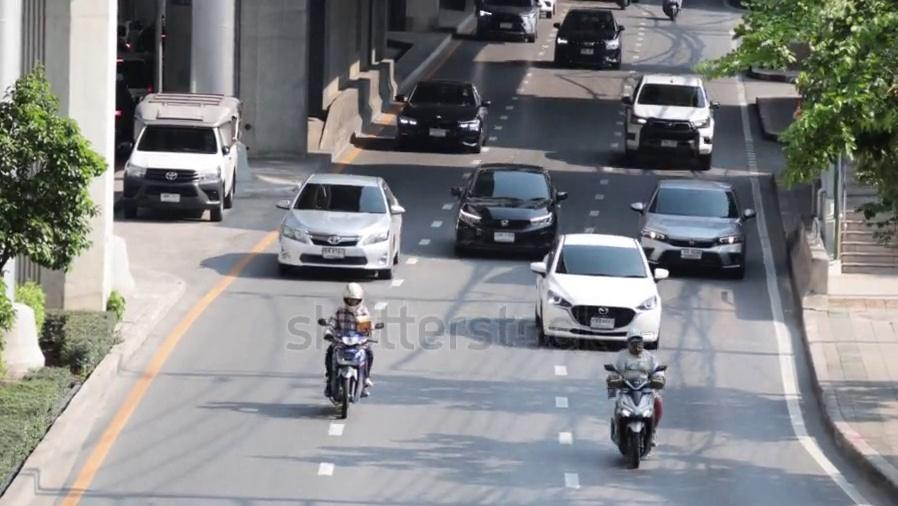rider: (319, 281, 379, 398), (612, 329, 665, 446)
with_helmate: (339, 284, 363, 310)
